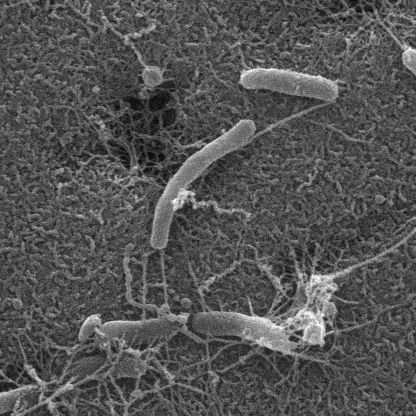cell2cell: (0, 353, 123, 416), (248, 99, 335, 142), (100, 376, 145, 416), (154, 248, 175, 314)
cell2surface: (316, 167, 416, 292), (372, 0, 404, 49)
filament: (148, 119, 254, 248)
regular: (190, 311, 294, 349), (240, 69, 340, 102), (95, 315, 186, 351), (0, 378, 77, 415), (68, 356, 148, 380), (403, 48, 416, 130)
